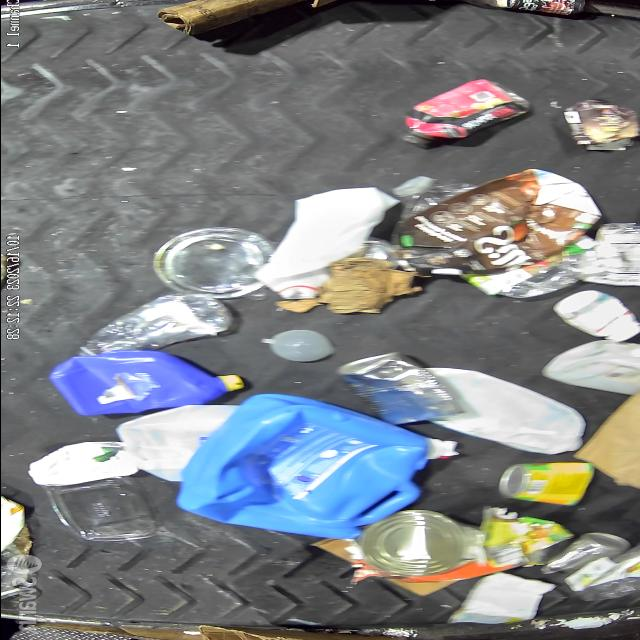can: (334, 352, 462, 426), (358, 509, 466, 576), (498, 463, 594, 508), (544, 532, 630, 574)
milk_jug: (254, 186, 400, 300), (414, 366, 582, 456), (113, 404, 239, 482), (540, 340, 640, 396)
non_white_jug: (172, 397, 434, 535), (48, 351, 238, 415)
plastic_bottle: (74, 294, 232, 356), (440, 0, 583, 16)
